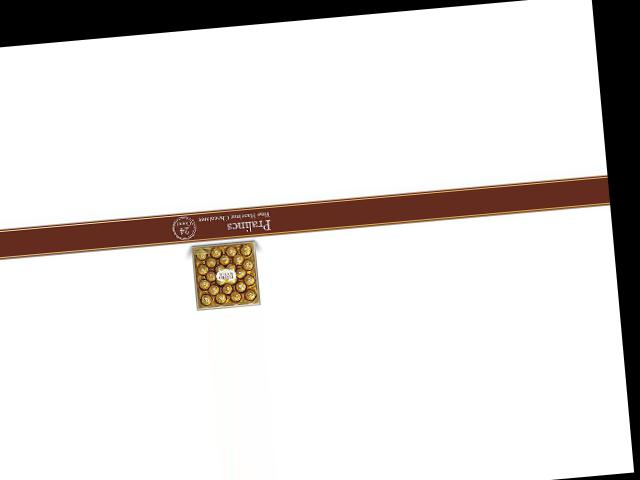chocolate: (186, 237, 263, 315)
